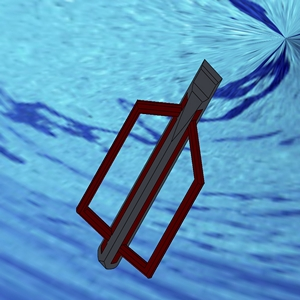submarine: (73, 28, 241, 300)
